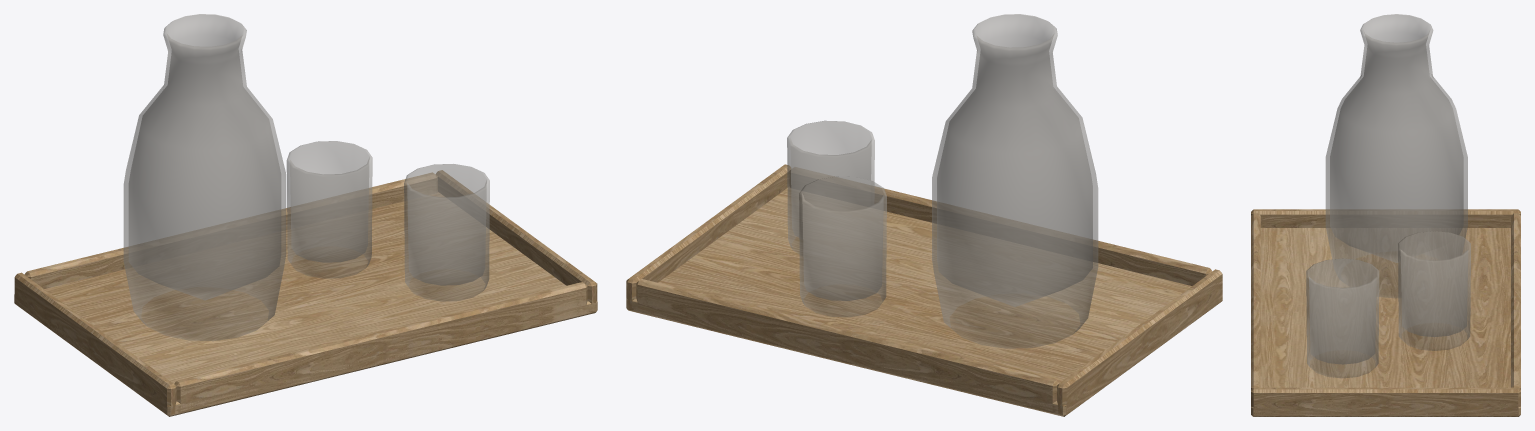
File: decor_c_tray_carafe_oak.gltf
3 views of the same model, side by side, from view 1: azimuth 30°, elevation 25°; view 2: azimuth 150°, elevation 25°; view 3: azimuth 270°, elevation 25° (orthographic). The views are drawn at different scales.
Visible parts, largest first — view 1: DecorC_TrayCarafeOak_Oak_NoCollide, DecorC_TrayCarafeOak_Carafe01_Glass_NoCollide, DecorC_TrayCarafeOak_Glass02_Glass_NoCollide, DecorC_TrayCarafeOak_Glass01_Glass_NoCollide; view 2: DecorC_TrayCarafeOak_Oak_NoCollide, DecorC_TrayCarafeOak_Carafe01_Glass_NoCollide, DecorC_TrayCarafeOak_Glass01_Glass_NoCollide, DecorC_TrayCarafeOak_Glass02_Glass_NoCollide; view 3: DecorC_TrayCarafeOak_Oak_NoCollide, DecorC_TrayCarafeOak_Carafe01_Glass_NoCollide, DecorC_TrayCarafeOak_Glass01_Glass_NoCollide, DecorC_TrayCarafeOak_Glass02_Glass_NoCollide.
Boxes of the visible parts, <box> form: DecorC_TrayCarafeOak_Oak_NoCollide: <box>14,170,597,416</box>; DecorC_TrayCarafeOak_Carafe01_Glass_NoCollide: <box>123,14,286,340</box>; DecorC_TrayCarafeOak_Glass02_Glass_NoCollide: <box>404,164,489,301</box>; DecorC_TrayCarafeOak_Glass01_Glass_NoCollide: <box>286,141,372,278</box>; DecorC_TrayCarafeOak_Oak_NoCollide: <box>626,164,1222,416</box>; DecorC_TrayCarafeOak_Carafe01_Glass_NoCollide: <box>932,14,1098,348</box>; DecorC_TrayCarafeOak_Glass01_Glass_NoCollide: <box>799,176,886,316</box>; DecorC_TrayCarafeOak_Glass02_Glass_NoCollide: <box>787,120,874,254</box>; DecorC_TrayCarafeOak_Oak_NoCollide: <box>1251,209,1520,416</box>; DecorC_TrayCarafeOak_Carafe01_Glass_NoCollide: <box>1325,14,1467,298</box>; DecorC_TrayCarafeOak_Glass01_Glass_NoCollide: <box>1398,231,1470,350</box>; DecorC_TrayCarafeOak_Glass02_Glass_NoCollide: <box>1306,258,1379,377</box>.
Size of the model in its own units: 0.4 by 0.264 by 0.25.
Materials: 2 (1 with a texture image).
